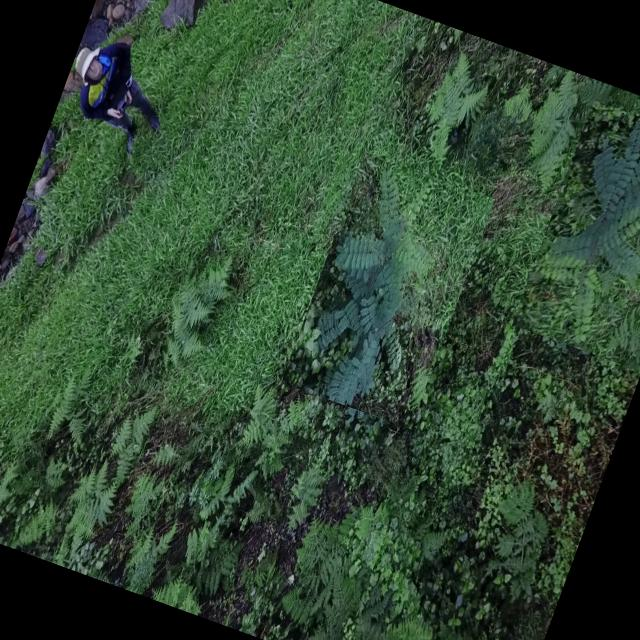Mysore-Thorn-Weed: (282, 153, 494, 430), (511, 100, 640, 370)
